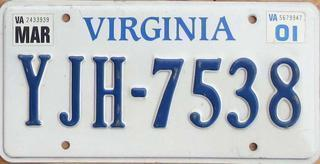placa de veiculo: (6, 1, 312, 156)
